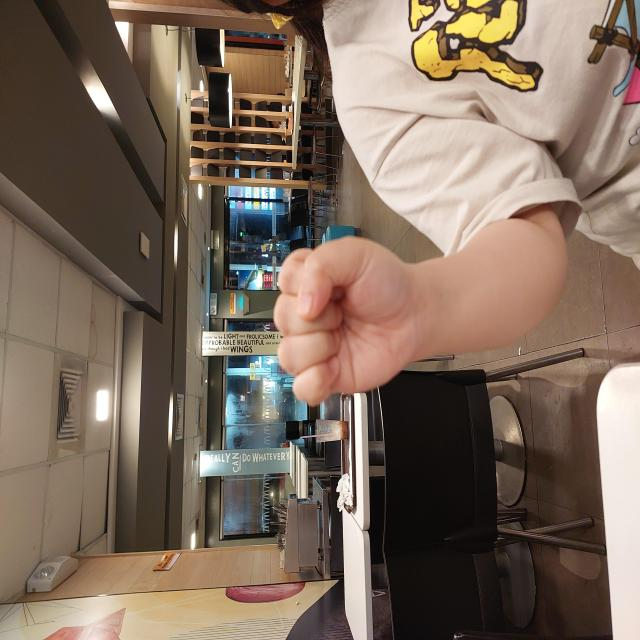S: (232, 272, 408, 418)
